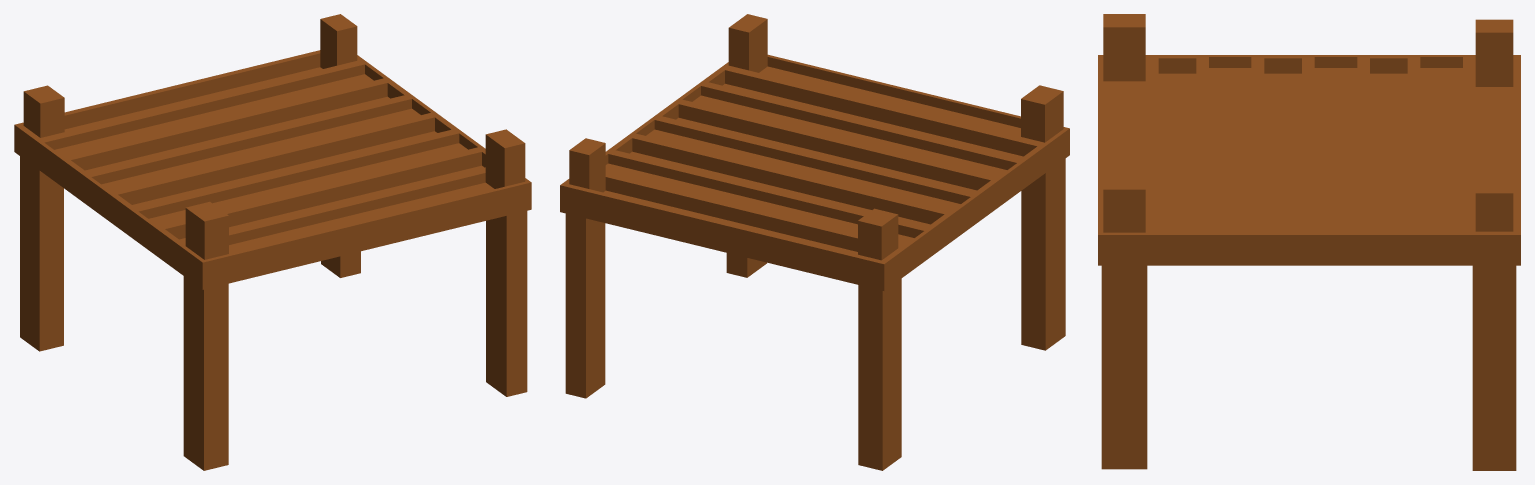
Rendered from kahoy1.fbx.
The picture shows the model from 3 angles, left to right: view 1: azimuth 30°, elevation 25°; view 2: azimuth 150°, elevation 25°; view 3: azimuth 270°, elevation 25°; orthographic projection. The views are drawn at different scales.
Visible parts, largest first — view 1: Cube; view 2: Cube; view 3: Cube.
Part boxes in pixels (bbox=[...]): Cube: bbox=[14, 14, 531, 470]; Cube: bbox=[560, 14, 1069, 470]; Cube: bbox=[1098, 14, 1520, 470].
Size of the model in its own units: 613 by 446 by 608.
